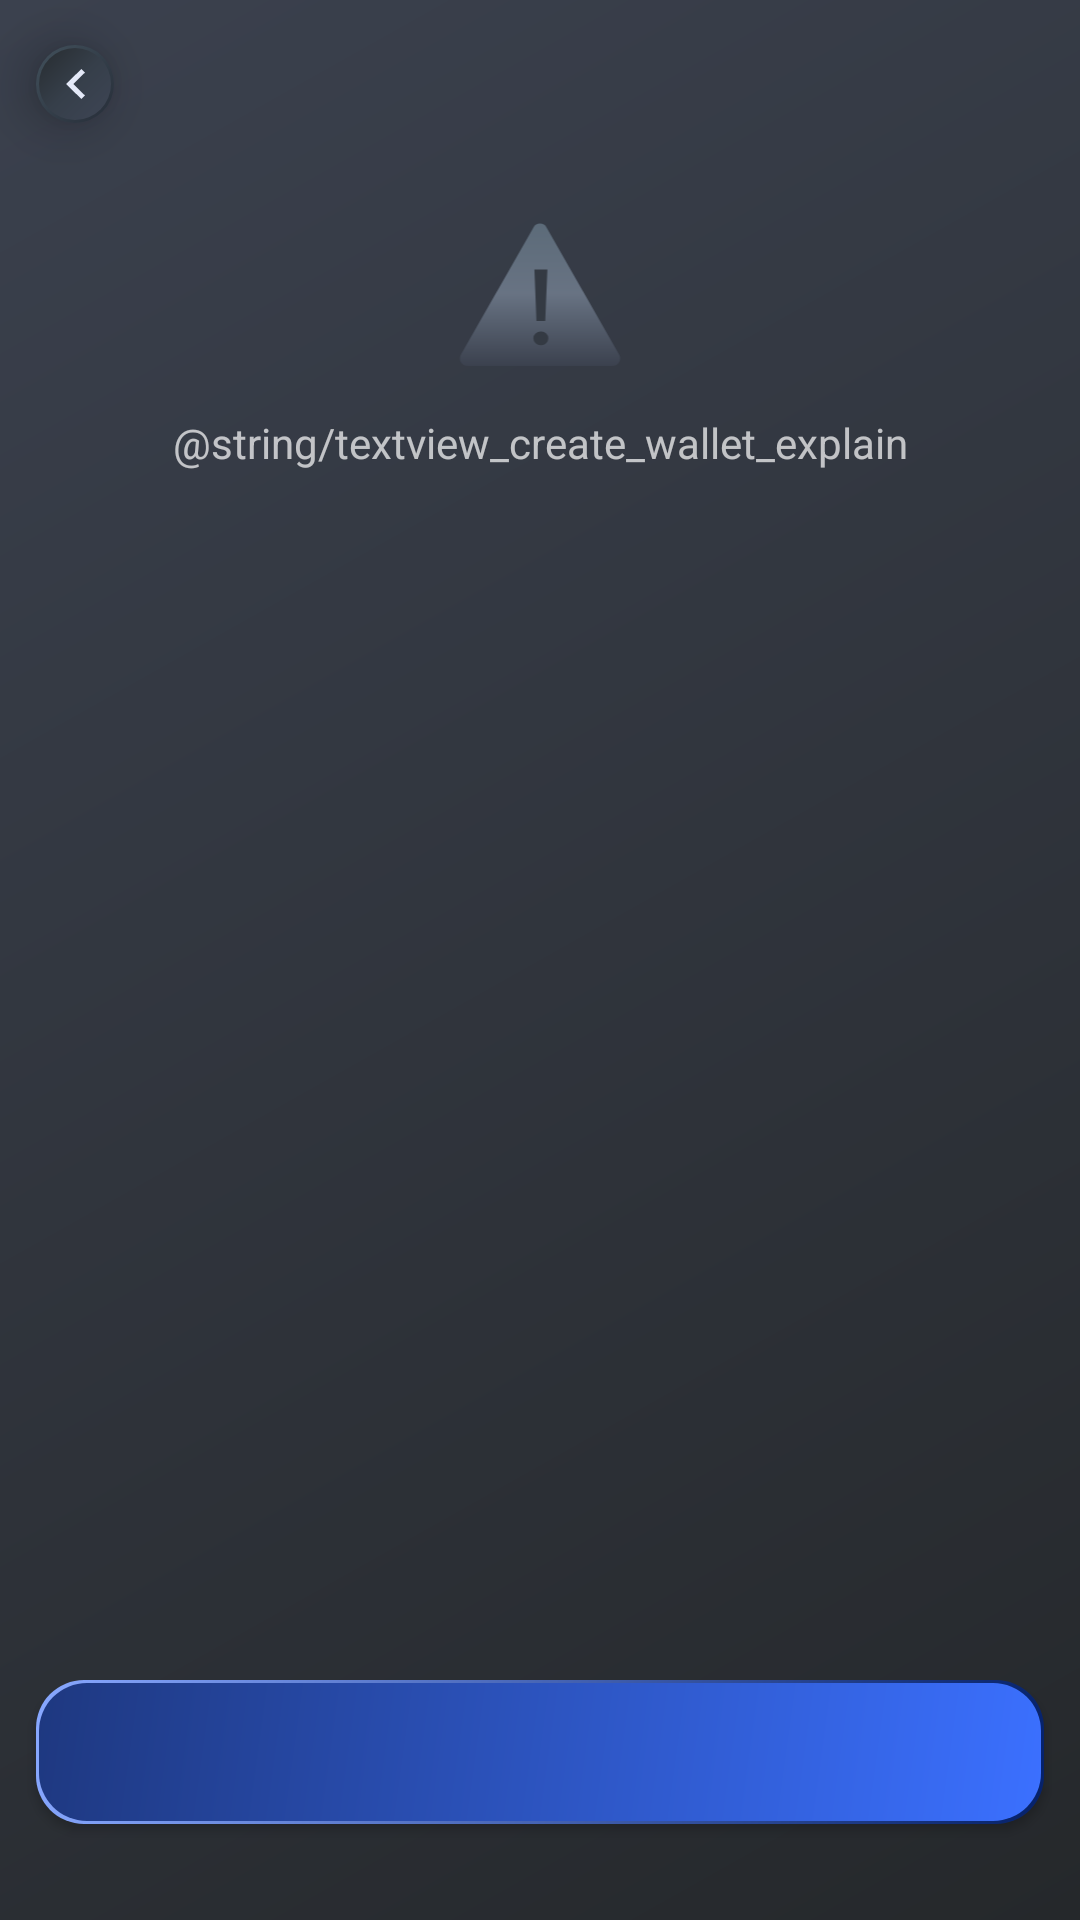

Icon click points for this 1080*1920 phone screenshot, format (x=x, y=y):
back: (x=75, y=84)
warning: (x=540, y=285)
